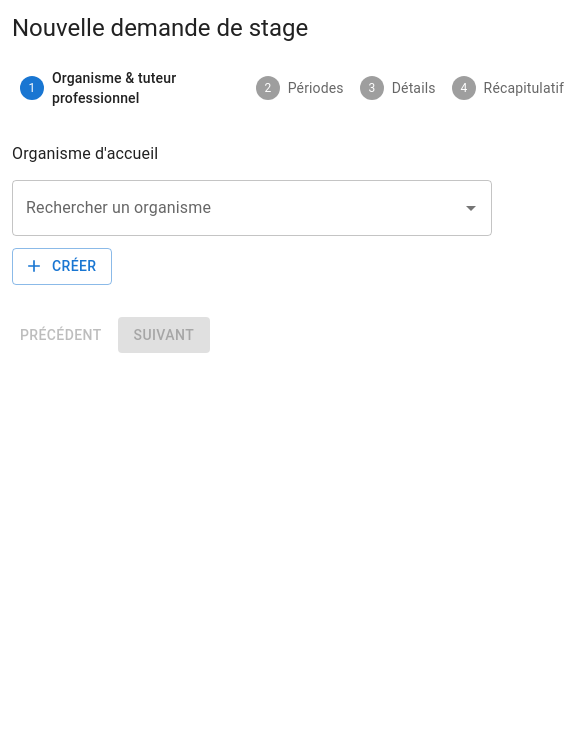
Test: NewStagePage › only accepts 5 digits in the new organism's postal code, and rejects a shorter one on submit
Click the button with aria-label "Créer un organisme" at (62, 266), box [12,248,112,284]
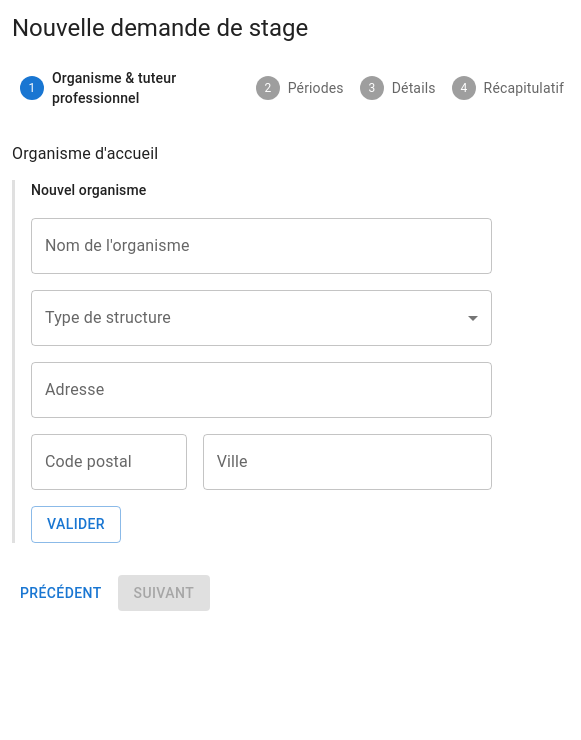
Type "69a0b0012" into the field labelled "Code postal" at (109, 462), box [31,434,187,490]
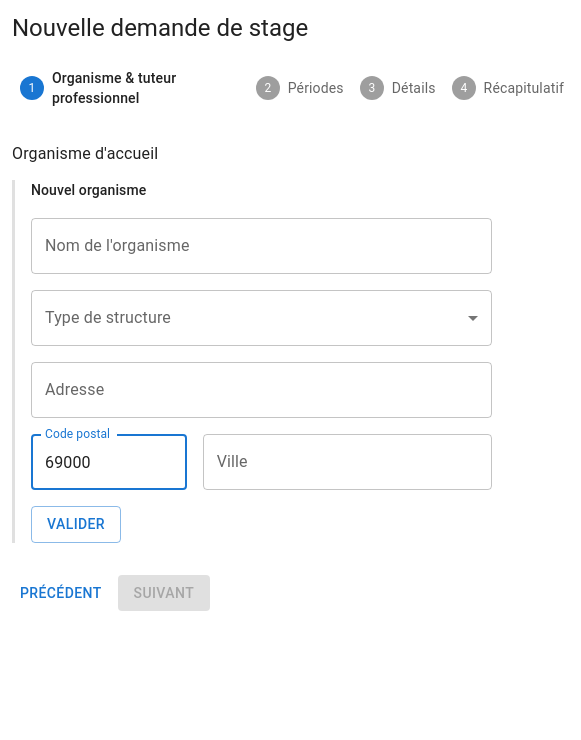
expect the field labelled "Code postal" holds "69000": met
Replace the text in the field labelled "Code postal" with "690" at (109, 462), box [31,434,187,490]
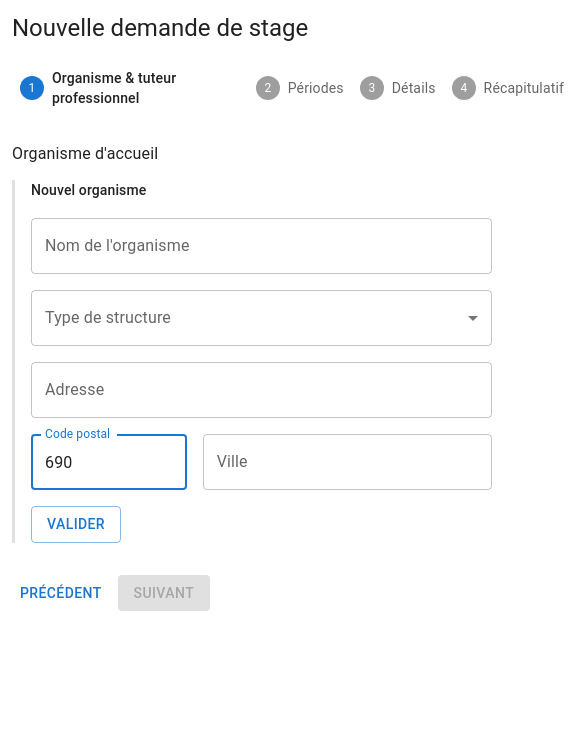
Click the button with aria-label "Valider l'organisme" at (76, 524), box [31,506,121,542]
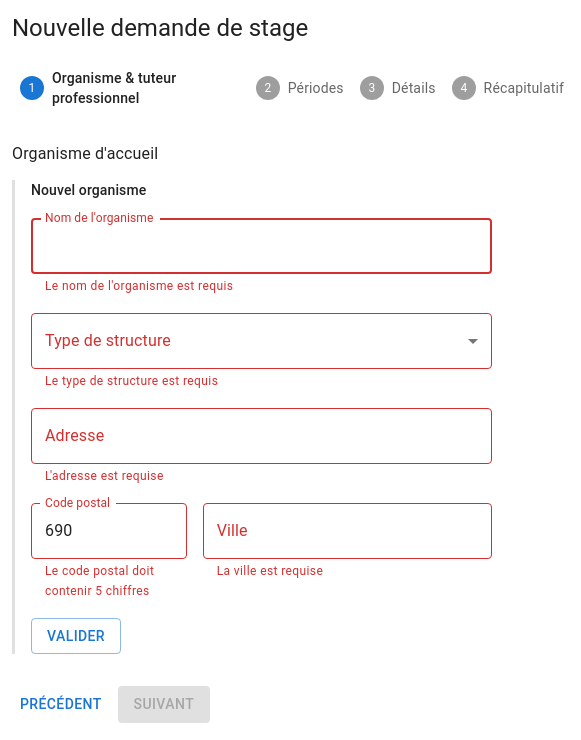
expect the text "Le code postal doit contenir 5 chiffres" is shown: met, box [45,562,173,602]
